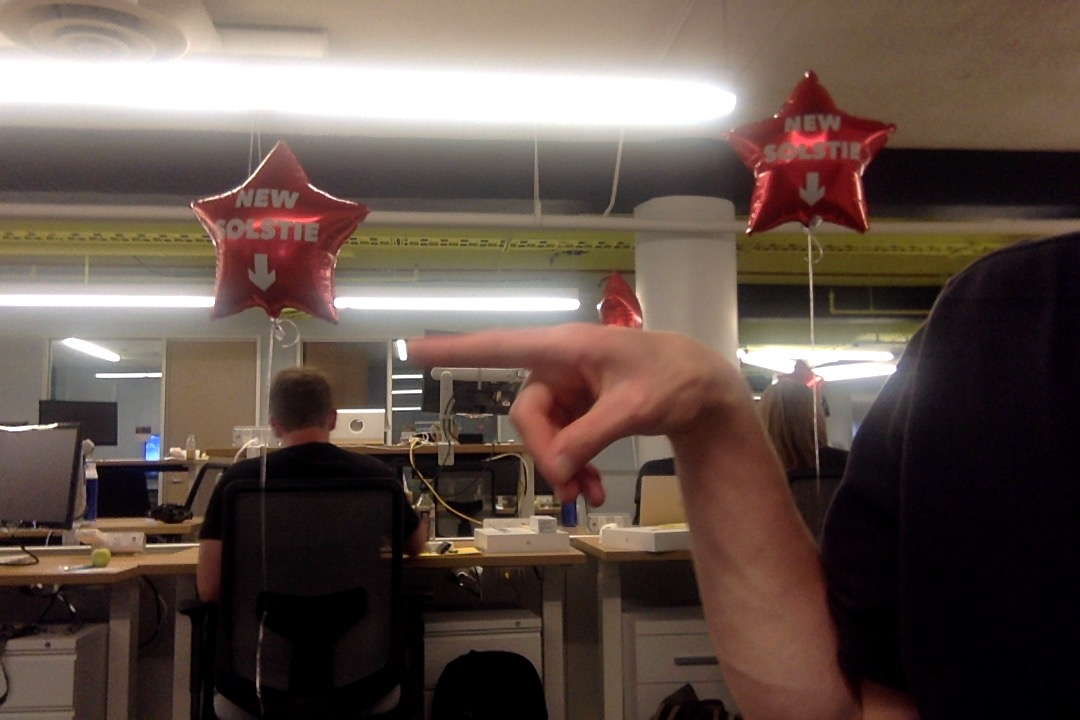p: (394, 317, 758, 510)
